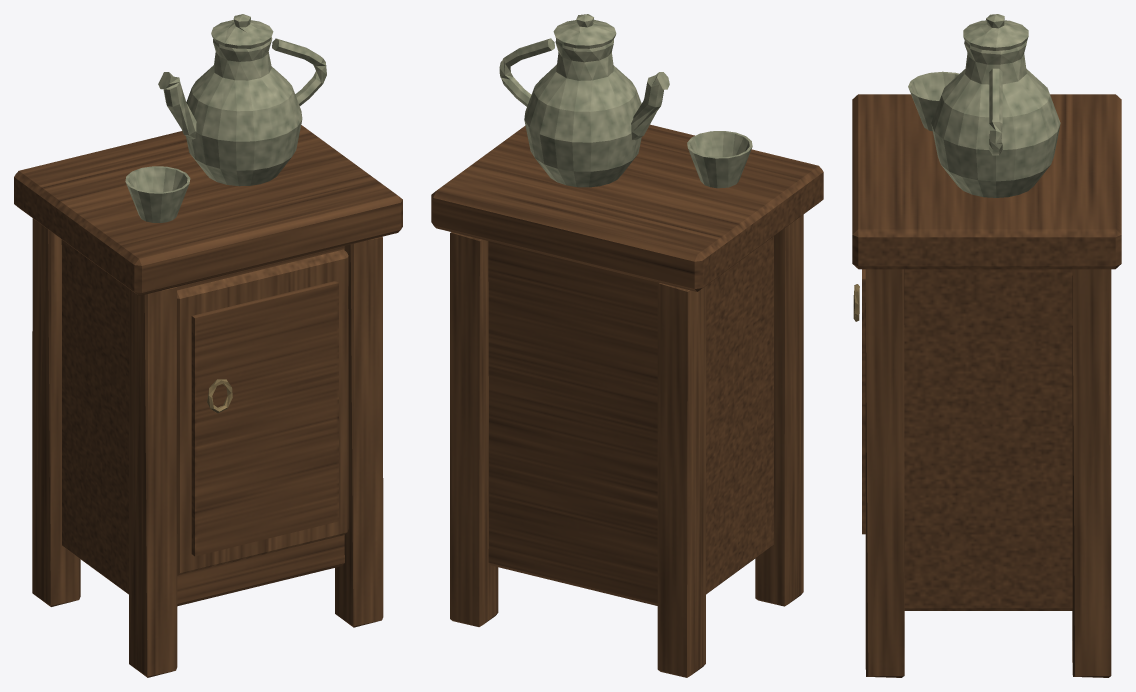
Rendered from WakeTeaStand_LOD1.fbx.
The picture shows the model from 3 angles, left to right: view 1: azimuth 30°, elevation 25°; view 2: azimuth 150°, elevation 25°; view 3: azimuth 270°, elevation 25°; orthographic projection. The views are drawn at different scales.
Visible parts, largest first — view 1: WakeTeaStand.001; view 2: WakeTeaStand.001; view 3: WakeTeaStand.001.
Boxes of the visible parts, x1=… form: WakeTeaStand.001: x1=14, y1=14, x2=402, y2=677; WakeTeaStand.001: x1=431, y1=14, x2=823, y2=677; WakeTeaStand.001: x1=852, y1=14, x2=1121, y2=677.
Size of the model in its own units: 0.446 by 0.923 by 0.362.
Materials: 1 (1 with a texture image).
